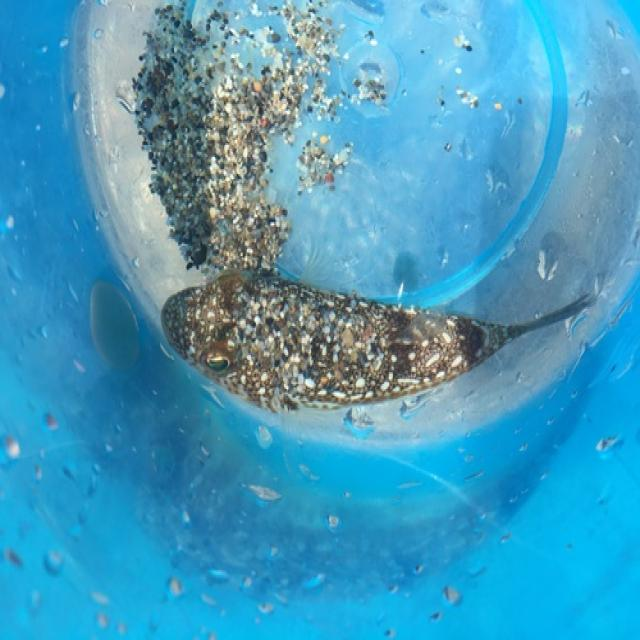Balik: (162, 272, 588, 411)
